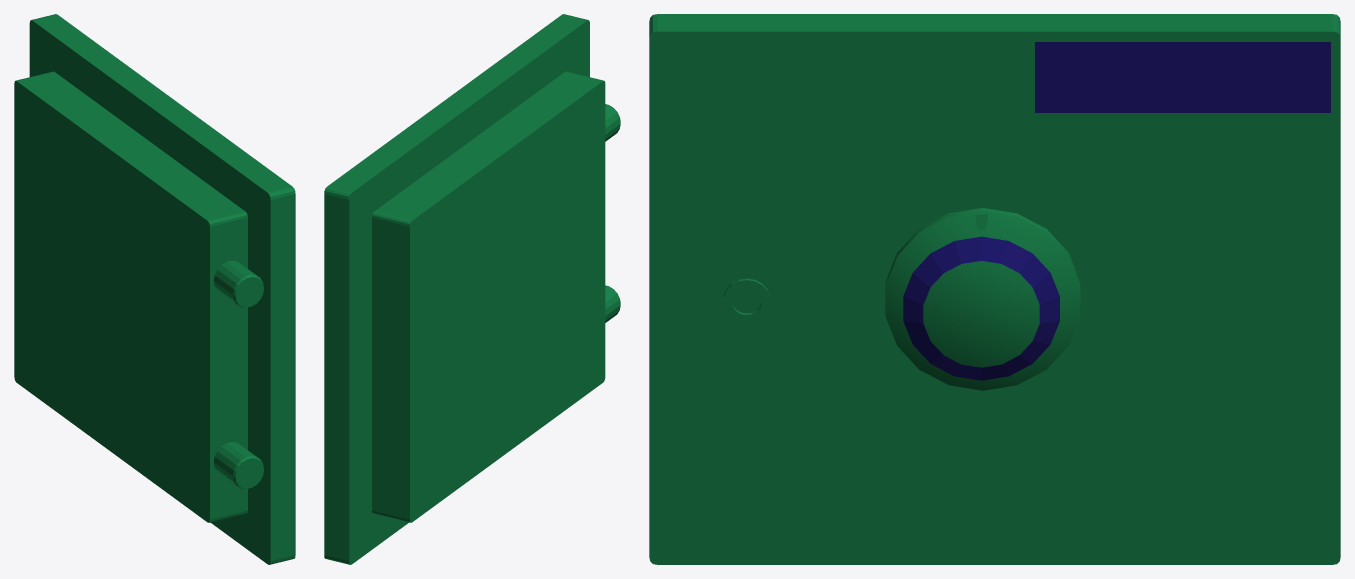
Rendered from GG_SAFE_DOOR.FBX.
The picture shows the model from 3 angles, left to right: view 1: azimuth 30°, elevation 25°; view 2: azimuth 150°, elevation 25°; view 3: azimuth 270°, elevation 25°; orthographic projection. The views are drawn at different scales.
Parts seen in each view (by area): view 1: Object613; view 2: Object613; view 3: Object613.
Part boxes in pixels (<box>): Object613: <box>14,14,295,564</box>; Object613: <box>324,14,620,564</box>; Object613: <box>649,14,1340,564</box>.
Size of the model in its own units: 6.56 by 27.85 by 32.71.
